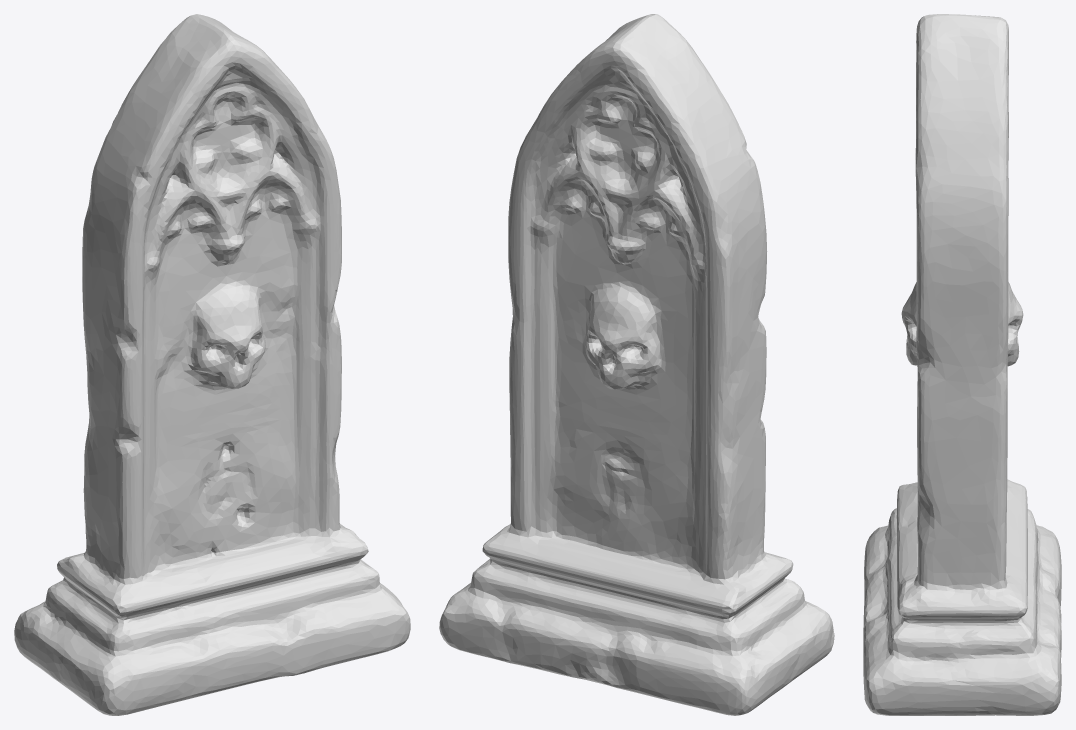
File: tombstone03.glb
3 renders of one model, left to right at view 1: azimuth 30°, elevation 25°; view 2: azimuth 150°, elevation 25°; view 3: azimuth 270°, elevation 25°, orthographic.
Parts seen in each view (by area): view 1: Low; view 2: Low; view 3: Low.
Boxes of the visible parts, box(x1,y1,x2,y2) form: Low: box(14, 14, 410, 715); Low: box(439, 14, 834, 715); Low: box(863, 14, 1061, 715).
Size of the model in its own units: 1.04 by 1.99 by 0.5667.
1 material, 1 textured.
